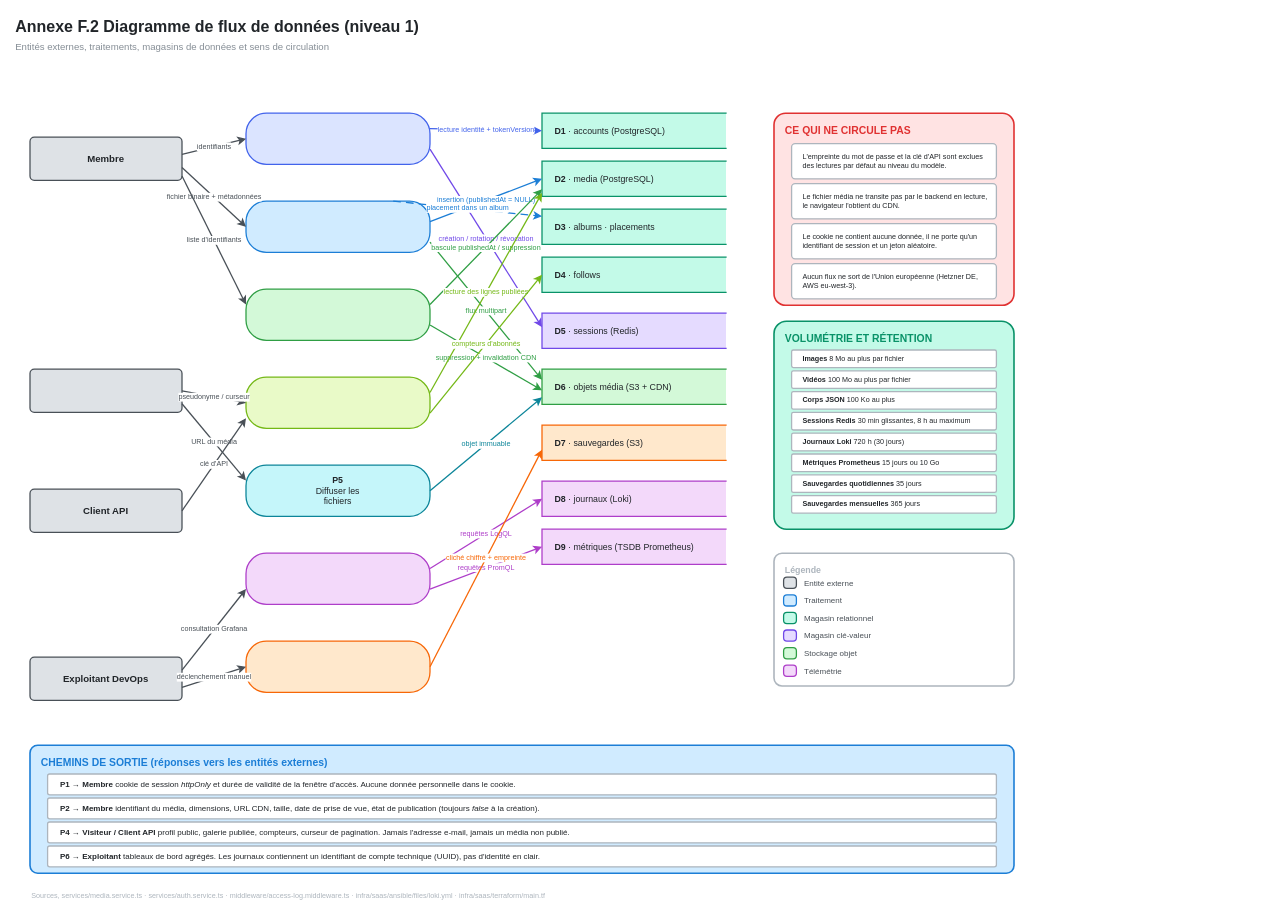
Image size: 1286x917. Some labels were removed from this diagram. The shapes that lost their labels are listed below. From the top down, each one's centre as x and y in pixels, then its label:
At pixel 337 138: "P1 Authentifier et maintenir la session".
At pixel 337 226: "P2 Téléverser et stocker un média".
At pixel 337 314: "P3 Publier / dépublier / supprimer".
At pixel 105 390: "Visiteur".
At pixel 337 402: "P4 Servir les vues publiques".
At pixel 337 578: "P6 Superviser".
At pixel 337 666: "P7 Sauvegarder et restaurer".
